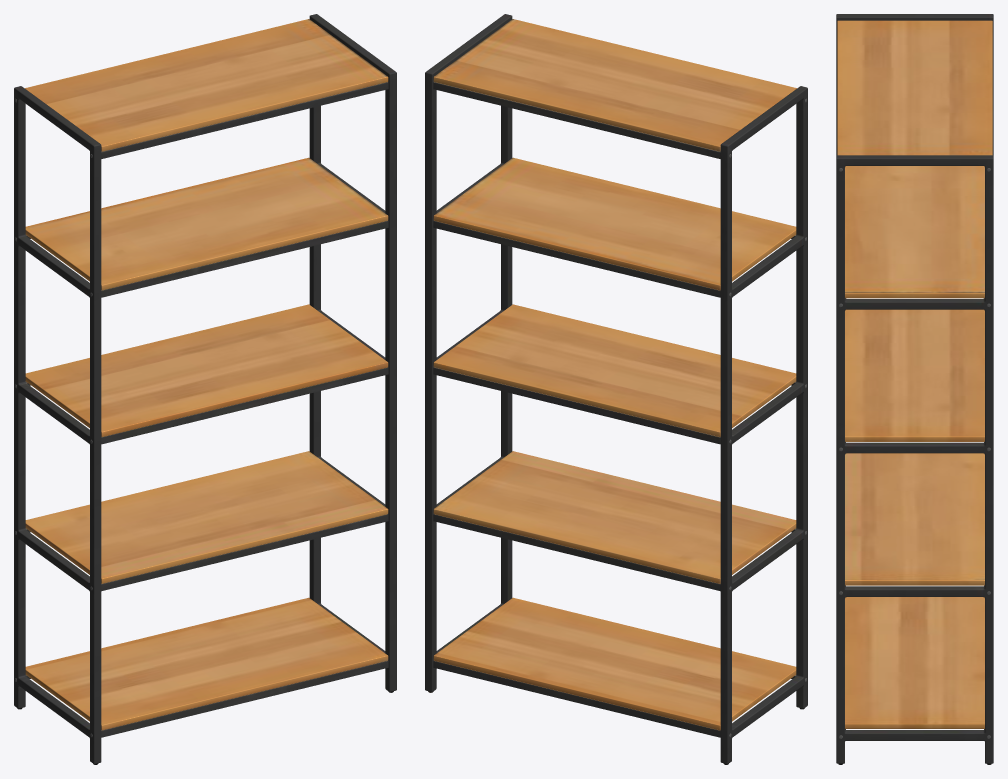
Rendered from shelves.glb.
The picture shows the model from 3 angles, left to right: view 1: azimuth 30°, elevation 25°; view 2: azimuth 150°, elevation 25°; view 3: azimuth 270°, elevation 25°; orthographic projection. The views are drawn at different scales.
Parts seen in each view (by area): view 1: steel_frame_shelves_01; view 2: steel_frame_shelves_01; view 3: steel_frame_shelves_01.
Part boxes in pixels (x1,y1,x2,y2): steel_frame_shelves_01: (14, 14, 396, 764); steel_frame_shelves_01: (425, 14, 807, 764); steel_frame_shelves_01: (836, 14, 993, 764).
Bounding box in the file's own units: 10.97 × 21.41 × 5.02.
Materials: 1 (1 with a texture image).
